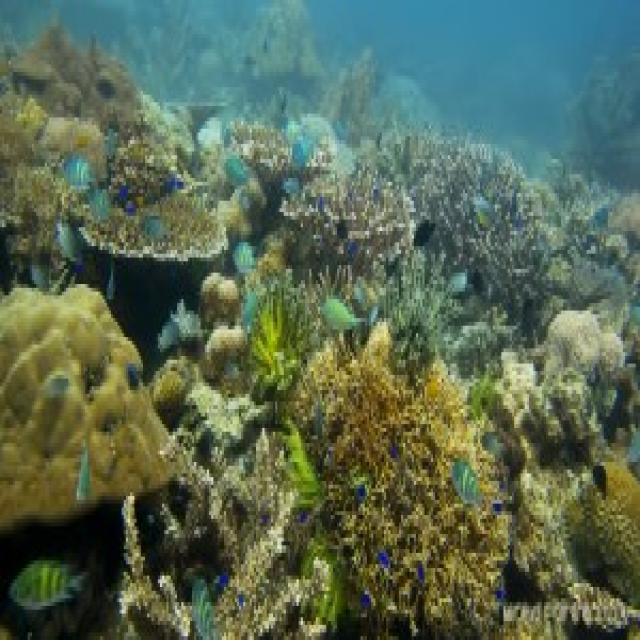Healthy: (291, 327, 504, 633), (118, 383, 330, 637), (1, 293, 172, 531), (502, 312, 622, 599), (411, 137, 551, 315), (80, 103, 225, 259), (1, 96, 103, 251), (280, 168, 413, 270), (566, 463, 639, 603), (381, 247, 453, 372), (251, 277, 327, 395), (202, 277, 246, 387)
